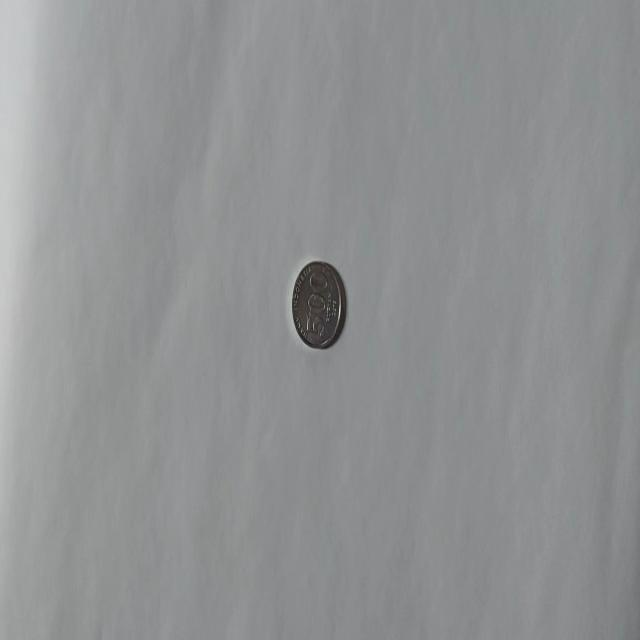lima ratus rupiah: (290, 258, 346, 349)
